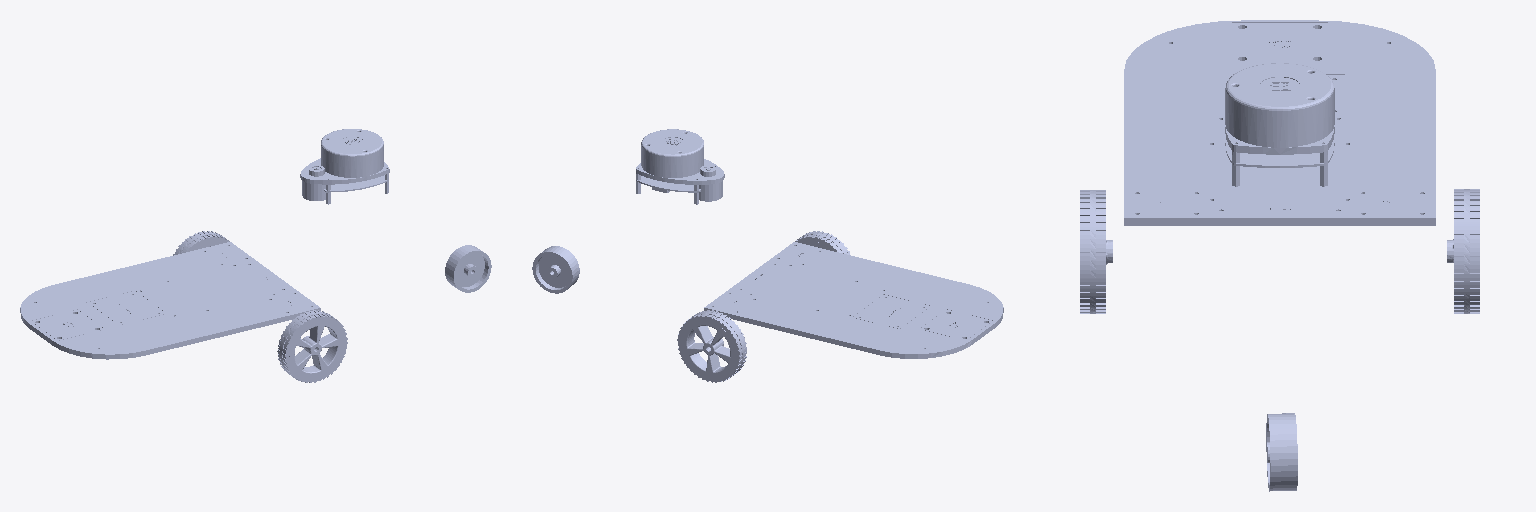
robot.urdf — rudolph_v4_3:
<?xml version="1.0" encoding="utf-8"?>
<!-- This URDF was automatically created by SolidWorks to URDF Exporter! Originally created by [author] ([email redacted]) 
     Commit Version: 1.6.0-4-g7f85cfe  Build Version: 1.6.7995.38578
     For more information, please see http://wiki.ros.org/sw_urdf_exporter -->
<robot
  name="rudolph_v4_3">
  <link
    name="base_link">
    <inertial>
      <origin
        xyz="0.101534961279229 -0.00437462913359959 0.0271443355632778"
        rpy="0 0 0" />
      <mass
        value="1.32414851074727" />
      <inertia
        ixx="0.00313096173401105"
        ixy="3.4234103262834E-06"
        ixz="-7.11526366576441E-07"
        iyy="0.00590529726535524"
        iyz="7.41837565599678E-07"
        izz="0.00899400568422118" />
    </inertial>
    <visual>
      <origin
        xyz="0 0 0"
        rpy="0 0 0" />
      <geometry>
        <mesh
          filename="package://rudolph_v4_3/meshes/base_link.STL" />
      </geometry>
      <material
        name="">
        <color
          rgba="0.792156862745098 0.819607843137255 0.933333333333333 1" />
      </material>
    </visual>
    <collision>
      <origin
        xyz="0 0 0"
        rpy="0 0 0" />
      <geometry>
        <mesh
          filename="package://rudolph_v4_3/meshes/base_link.STL" />
      </geometry>
    </collision>
  </link>
  <link
    name="base_laser">
    <inertial>
      <origin
        xyz="-0.00676641398454259 9.19718367893042E-05 -0.00981507539280288"
        rpy="0 0 0" />
      <mass
        value="1.33010751695787" />
      <inertia
        ixx="0.00061377057687069"
        ixy="-8.01970112250563E-07"
        ixz="-0.000158237807214438"
        iyy="0.000959131136457616"
        iyz="3.0936846683567E-06"
        izz="0.00109694905180103" />
    </inertial>
    <visual>
      <origin
        xyz="0 0 0"
        rpy="0 0 0" />
      <geometry>
        <mesh
          filename="package://rudolph_v4_3/meshes/base_laser.STL" />
      </geometry>
      <material
        name="">
        <color
          rgba="0.792156862745098 0.819607843137255 0.933333333333333 1" />
      </material>
    </visual>
    <collision>
      <origin
        xyz="0 0 0"
        rpy="0 0 0" />
      <geometry>
        <mesh
          filename="package://rudolph_v4_3/meshes/base_laser.STL" />
      </geometry>
    </collision>
  </link>
  <joint
    name="lidar"
    type="fixed">
    <origin
      xyz="0.1199 0 0.1271"
      rpy="0 0 0" />
    <parent
      link="base_link" />
    <child
      link="base_laser" />
    <axis
      xyz="0 0 0" />
  </joint>
  <link
    name="base_footprint">
    <inertial>
      <origin
        xyz="0.148863157194372 0.00135675454267504 0.0257699765847646"
        rpy="0 0 0" />
      <mass
        value="0.0160788172851309" />
      <inertia
        ixx="3.49316326388915E-06"
        ixy="-1.52832493190371E-07"
        ixz="-1.97171908375269E-22"
        iyy="6.29684776701663E-06"
        iyz="-4.91350569518991E-21"
        izz="3.48485677533925E-06" />
    </inertial>
    <visual>
      <origin
        xyz="0 0 0"
        rpy="0 0 0" />
      <geometry>
        <mesh
          filename="package://rudolph_v4_3/meshes/base_footprint.STL" />
      </geometry>
      <material
        name="">
        <color
          rgba="0.792156862745098 0.819607843137255 0.933333333333333 1" />
      </material>
    </visual>
    <collision>
      <origin
        xyz="0 0 0"
        rpy="0 0 0" />
      <geometry>
        <mesh
          filename="package://rudolph_v4_3/meshes/base_footprint.STL" />
      </geometry>
    </collision>
  </link>
  <joint
    name="foot_print"
    type="continuous">
    <origin
      xyz="0 0 -0.203869976584764"
      rpy="0 0 0" />
    <parent
      link="base_laser" />
    <child
      link="base_footprint" />
    <axis
      xyz="0.335999590456849 0.941862131743723 0" />
  </joint>
  <link
    name="right_wheel">
    <inertial>
      <origin
        xyz="2.33146835171283E-15 -0.000128187508022348 2.15105711021124E-16"
        rpy="0 0 0" />
      <mass
        value="0.0566666492820036" />
      <inertia
        ixx="2.86195955633458E-05"
        ixy="-1.45129517227166E-19"
        ixz="-9.67541169293159E-18"
        iyy="5.44361404566751E-05"
        iyz="-3.30558900894044E-20"
        izz="2.86195955633414E-05" />
    </inertial>
    <visual>
      <origin
        xyz="0 0 0"
        rpy="0 0 0" />
      <geometry>
        <mesh
          filename="package://rudolph_v4_3/meshes/right_wheel.STL" />
      </geometry>
      <material
        name="">
        <color
          rgba="0.792156862745098 0.819607843137255 0.933333333333333 1" />
      </material>
    </visual>
    <collision>
      <origin
        xyz="0 0 0"
        rpy="0 0 0" />
      <geometry>
        <mesh
          filename="package://rudolph_v4_3/meshes/right_wheel.STL" />
      </geometry>
    </collision>
  </link>
  <joint
    name="right"
    type="continuous">
    <origin
      xyz="0 0.11994 -0.03427"
      rpy="0 0 0" />
    <parent
      link="base_link" />
    <child
      link="right_wheel" />
    <axis
      xyz="0 1 0" />
  </joint>
  <link
    name="left_wheel">
    <inertial>
      <origin
        xyz="2.1094237467878E-15 0.000128187508022348 -8.43075609324728E-16"
        rpy="0 0 0" />
      <mass
        value="0.0566666492820037" />
      <inertia
        ixx="2.86195955633805E-05"
        ixy="1.60093518250458E-19"
        ixz="7.02426983460325E-18"
        iyy="5.44361404567349E-05"
        iyz="-5.39323227809156E-20"
        izz="2.86195955633666E-05" />
    </inertial>
    <visual>
      <origin
        xyz="0 0 0"
        rpy="0 0 0" />
      <geometry>
        <mesh
          filename="package://rudolph_v4_3/meshes/left_wheel.STL" />
      </geometry>
      <material
        name="">
        <color
          rgba="0.792156862745098 0.819607843137255 0.933333333333333 1" />
      </material>
    </visual>
    <collision>
      <origin
        xyz="0 0 0"
        rpy="0 0 0" />
      <geometry>
        <mesh
          filename="package://rudolph_v4_3/meshes/left_wheel.STL" />
      </geometry>
    </collision>
  </link>
  <joint
    name="left"
    type="continuous">
    <origin
      xyz="0 -0.11994 -0.03427"
      rpy="0 0 0" />
    <parent
      link="base_link" />
    <child
      link="left_wheel" />
    <axis
      xyz="0 1 0" />
  </joint>
</robot>

--- Render facts (derived) ---
The picture shows the robot from 3 angles, left to right: view 1: azimuth 30°, elevation 25°; view 2: azimuth 150°, elevation 25°; view 3: azimuth 270°, elevation 25°; orthographic projection.
Robot: rudolph_v4_3 — 5 links, 4 joints (3 continuous, 1 fixed); root link base_link; default pose: every joint at zero.
Visible links, largest first — view 1: base_link, base_laser, left_wheel, base_footprint, right_wheel; view 2: base_link, base_laser, right_wheel, base_footprint, left_wheel; view 3: base_link, base_laser, right_wheel, left_wheel, base_footprint.
Link boxes in pixels (x1,y1,x2,y2): base_link: (20, 242, 320, 359); base_laser: (300, 129, 389, 204); left_wheel: (277, 310, 347, 382); base_footprint: (445, 245, 491, 292); right_wheel: (173, 231, 229, 255); base_link: (704, 242, 1003, 358); base_laser: (636, 129, 724, 204); right_wheel: (677, 310, 746, 382); base_footprint: (532, 246, 579, 293); left_wheel: (795, 231, 849, 254); base_link: (1124, 20, 1435, 225); base_laser: (1225, 63, 1334, 186); right_wheel: (1447, 189, 1479, 313); left_wheel: (1080, 190, 1112, 313); base_footprint: (1266, 413, 1297, 491).
Bounding box of the posed robot: 0.572 × 0.2569 × 0.2157 m (x, y, z).
5 mesh visuals loaded from 5 distinct referenced files (5 binary STL).
